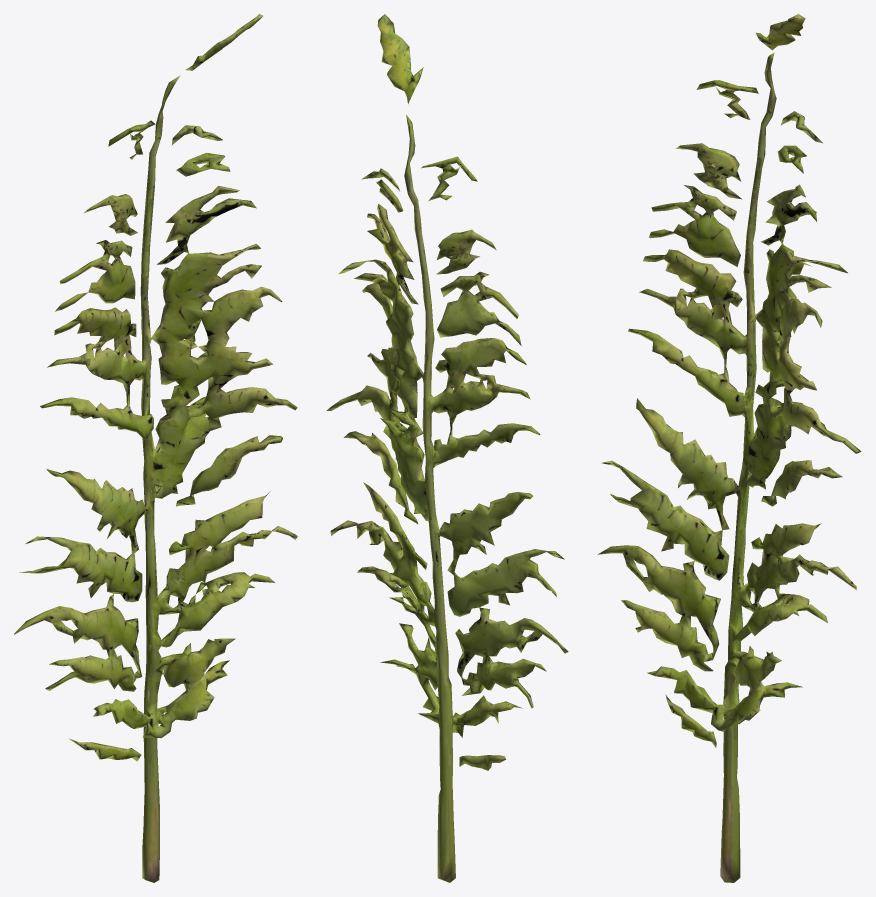
3 renders of one model, left to right at view 1: azimuth 30°, elevation 25°; view 2: azimuth 150°, elevation 25°; view 3: azimuth 330°, elevation 25°, orthographic. The views are drawn at different scales.
Visible parts, largest first — view 1: Mesh1.0; view 2: Mesh1.0; view 3: Mesh1.0.
Boxes of the visible parts, bbox=[...] form: Mesh1.0: bbox=[14, 14, 297, 882]; Mesh1.0: bbox=[326, 14, 568, 882]; Mesh1.0: bbox=[598, 14, 861, 882].
Bounding box in the file's own units: 64.85 × 200 × 17.46.
1 material, 1 textured.
